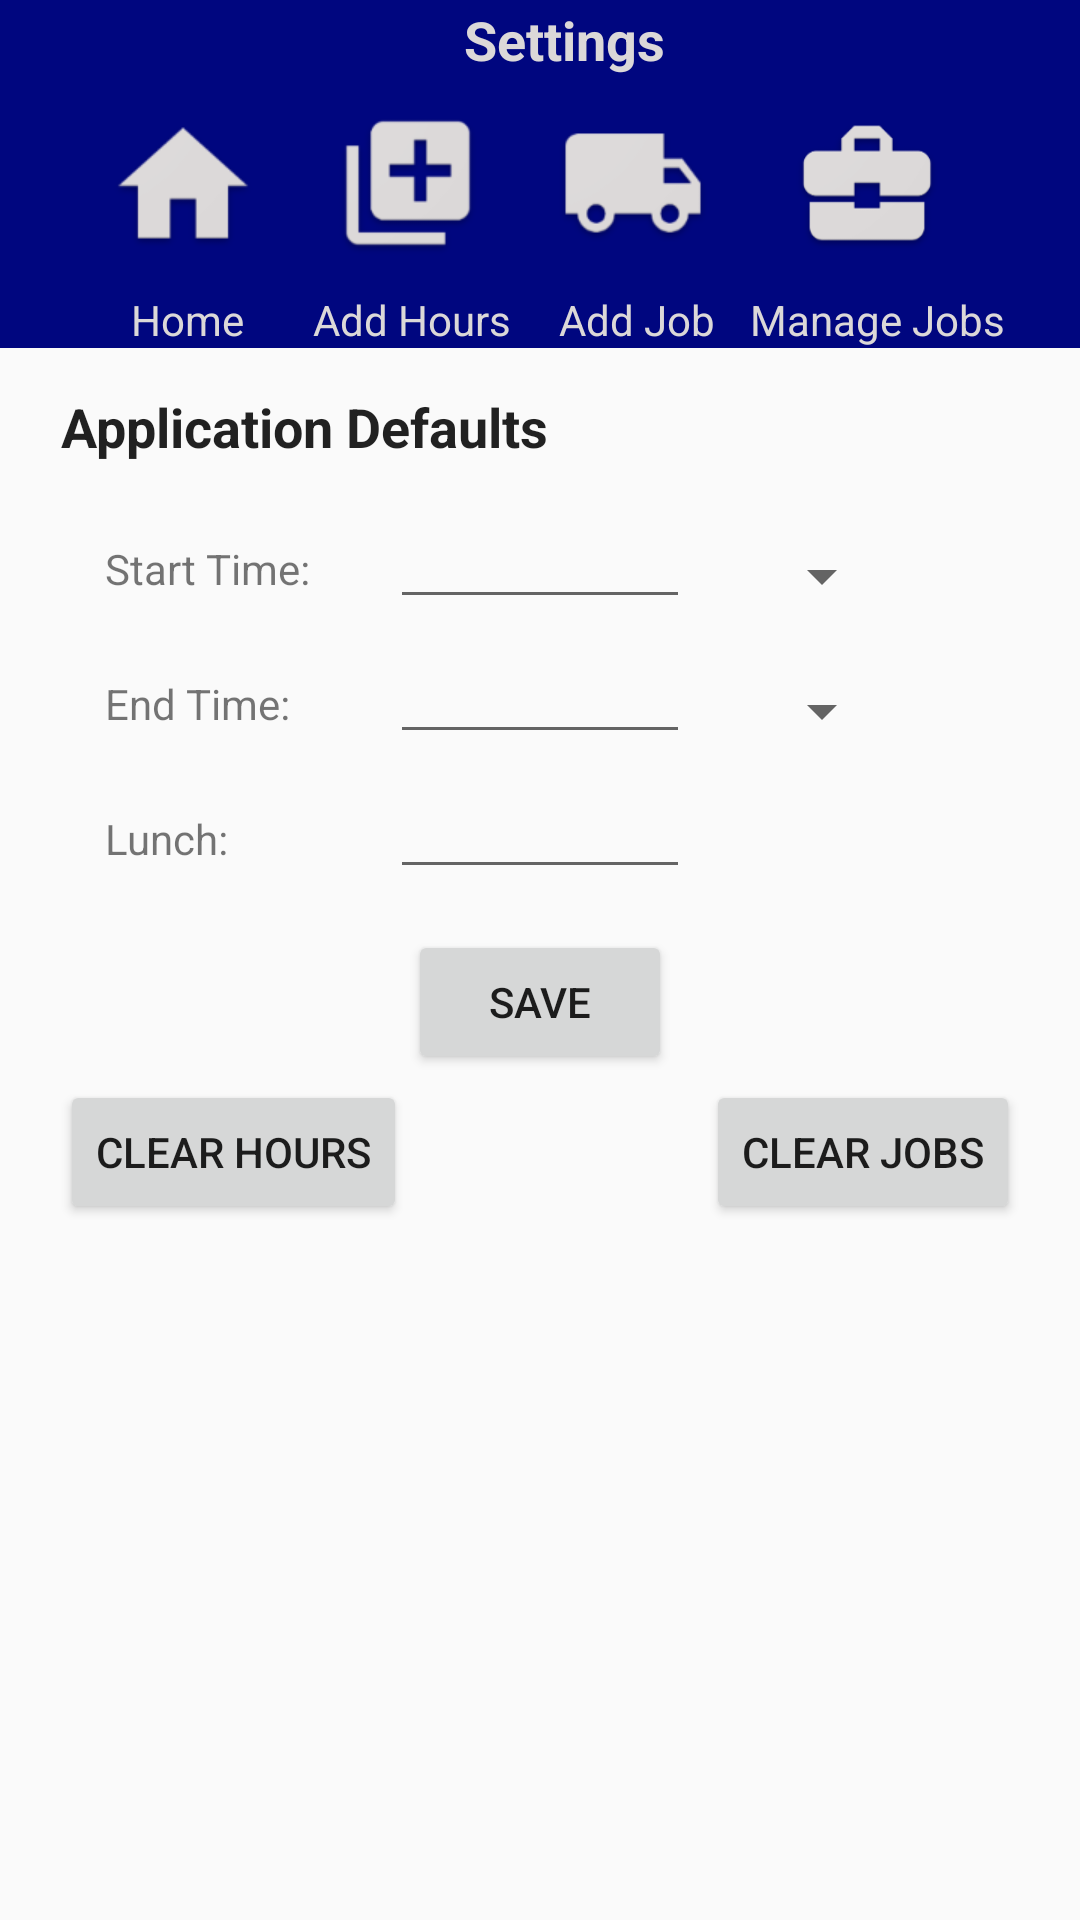

Screen size 1080w x 1920h. Icon name, then its box in pixels as [left=x1, top=y1, right=x2, bottom=y2]:
job manager: [left=803, top=125, right=931, bottom=242]
